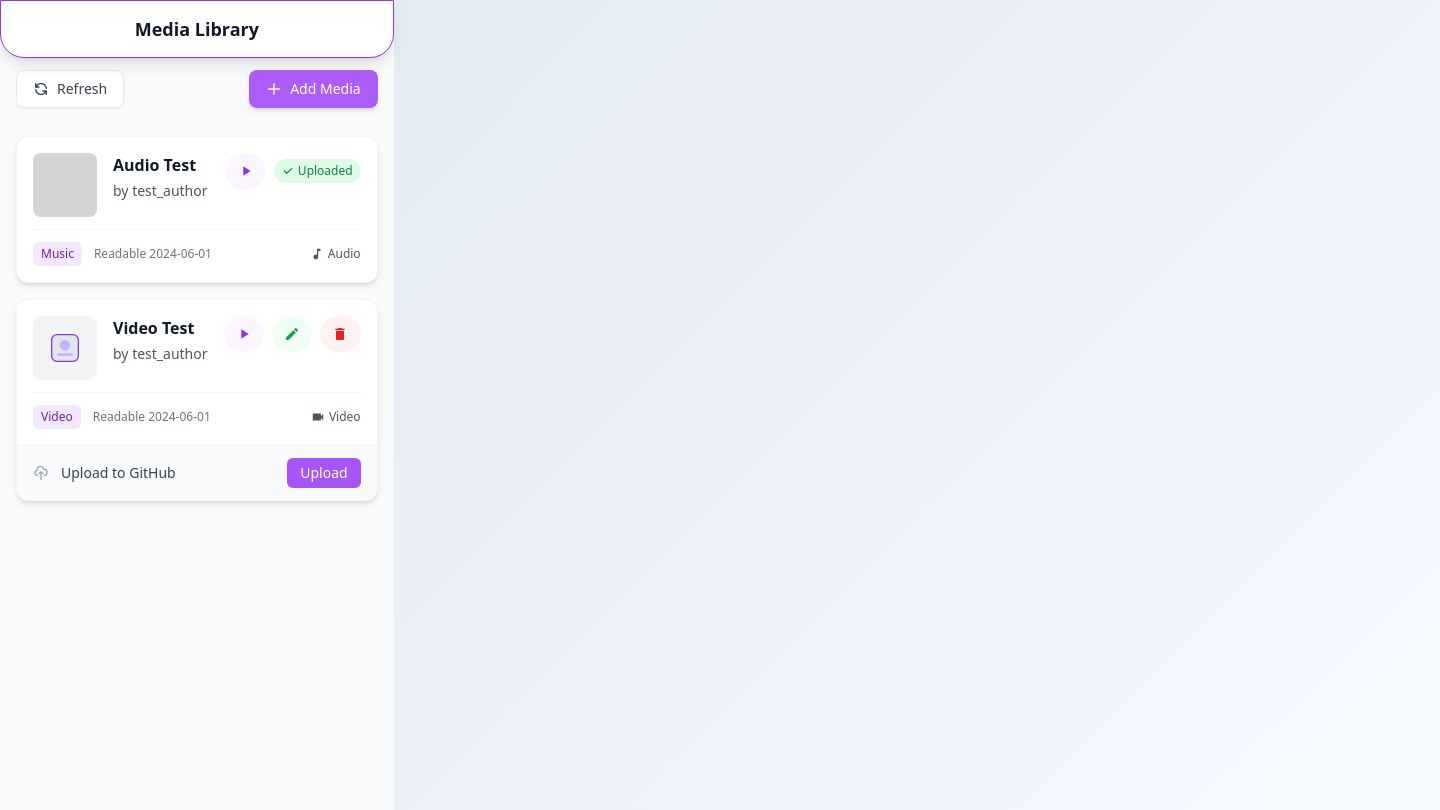
Test case: FileList › closes preview modal when close button is clicked
# Open preview modal
Click the button titled "Preview" next to "Uploaded" at (246, 171), box [226,153,266,189]
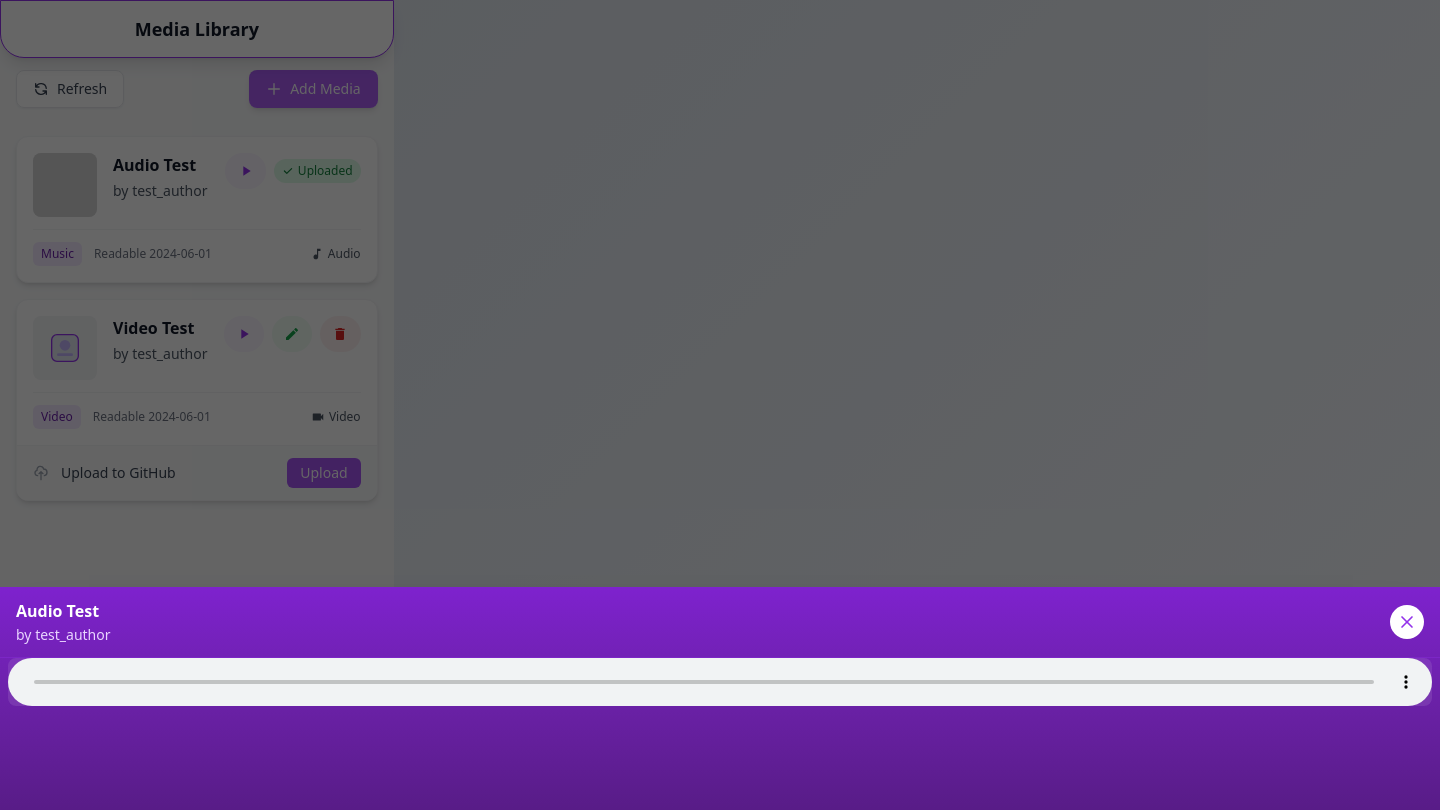
Now the number of headings "Audio Test" is 2, box [113,153,210,177]; [16,600,99,622]
# Click close button
Click the button titled "Close" at (1407, 622), box [1390,605,1424,639]
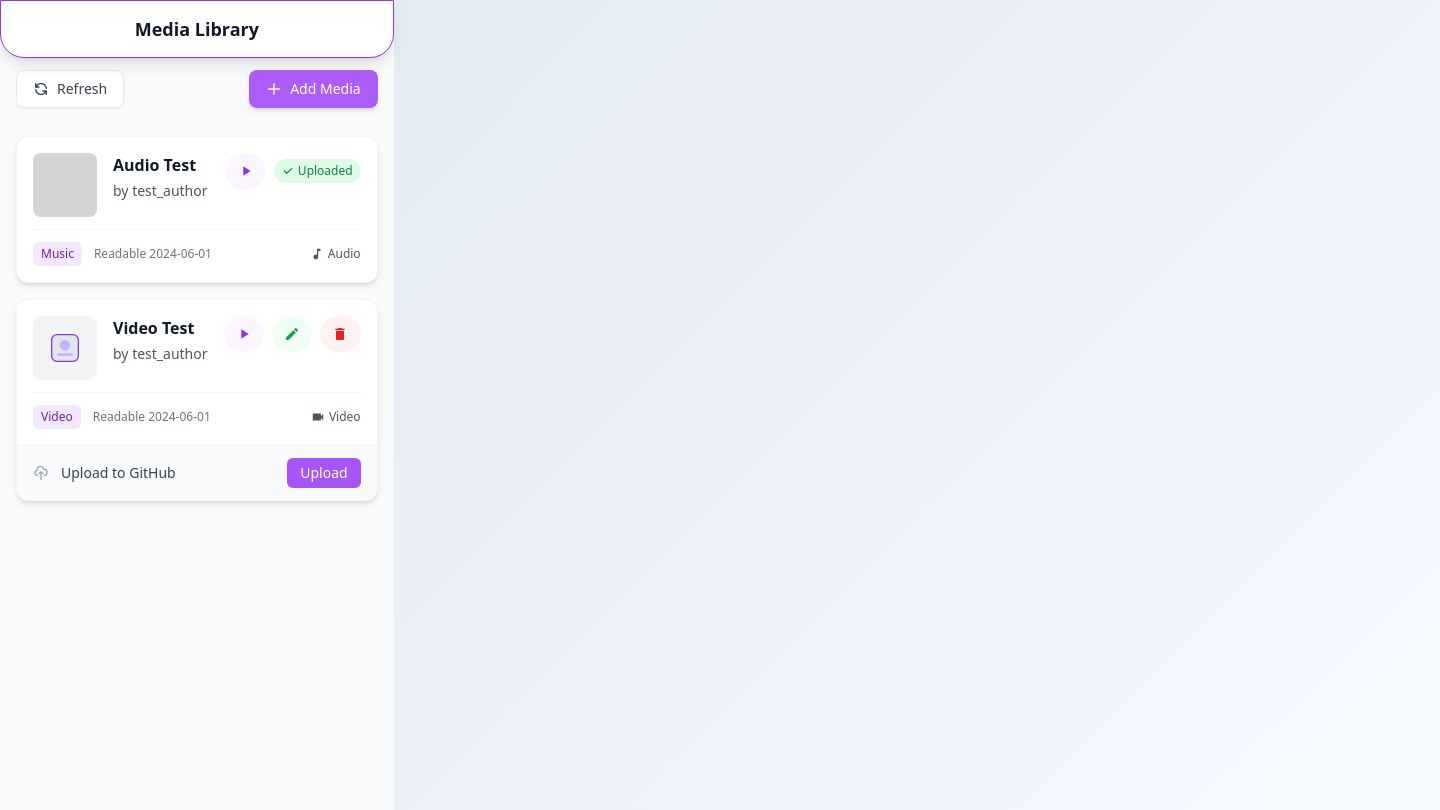
Now the number of headings "Audio Test" is 1, box [113,153,210,177]
